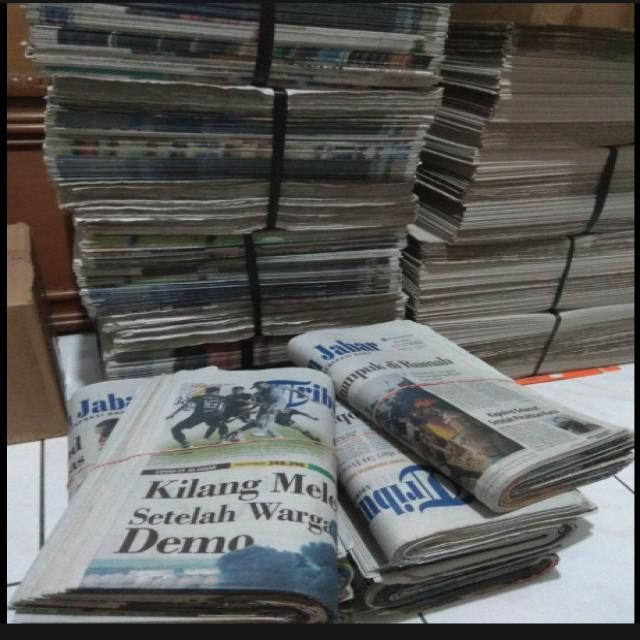Koran: (8, 1, 634, 624), (8, 319, 633, 623), (22, 0, 454, 379)
